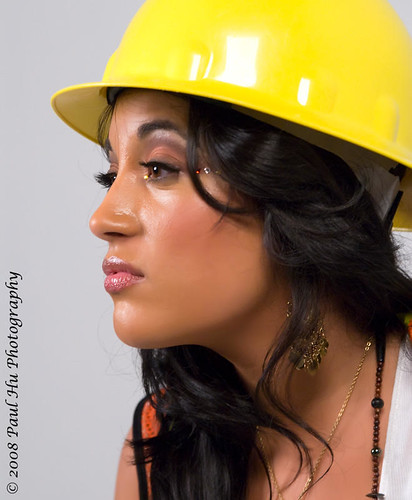person hardhat: (44, 1, 412, 500)
